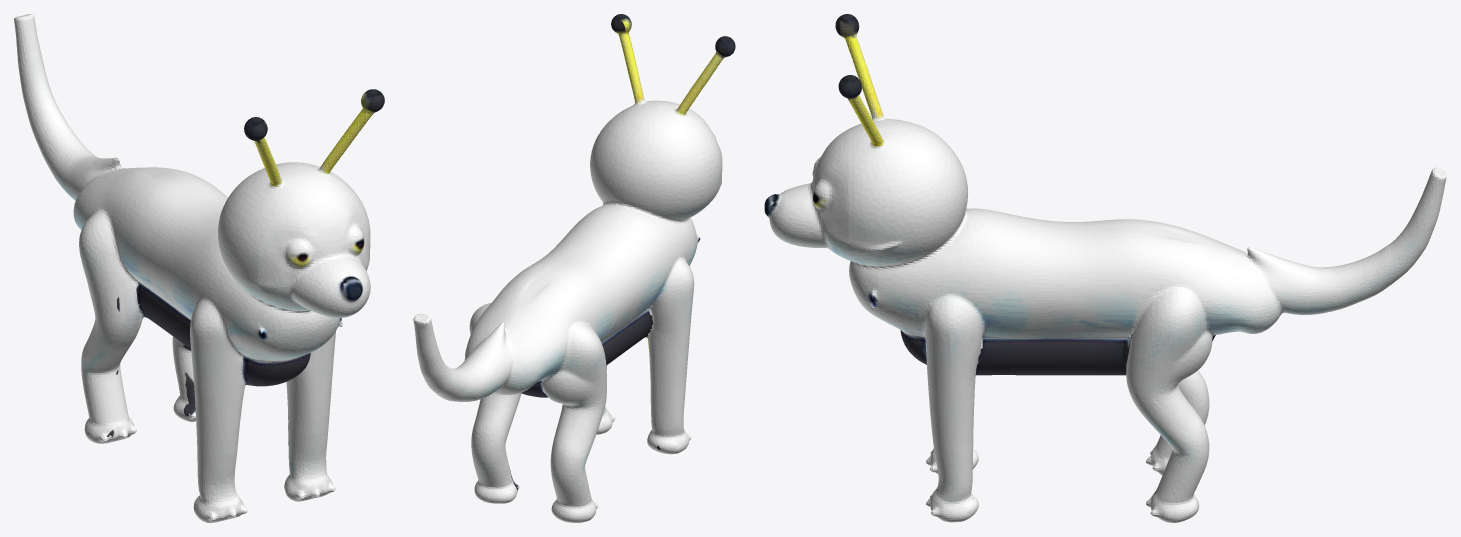
File: creature-072.glb
The picture shows the model from 3 angles, left to right: view 1: azimuth 30°, elevation 25°; view 2: azimuth 150°, elevation 25°; view 3: azimuth 270°, elevation 25°; orthographic projection. The views are drawn at different scales.
Visible parts, largest first — view 1: tmpw9xgl09y.ply; view 2: tmpw9xgl09y.ply; view 3: tmpw9xgl09y.ply.
Part boxes in pixels (left/top/right/bottom): tmpw9xgl09y.ply: left=14, top=14, right=384, bottom=522; tmpw9xgl09y.ply: left=413, top=14, right=735, bottom=522; tmpw9xgl09y.ply: left=764, top=14, right=1446, bottom=522.
Size of the model in its own units: 0.5036 by 1.44 by 1.99.
Materials: 1 (1 with a texture image).
